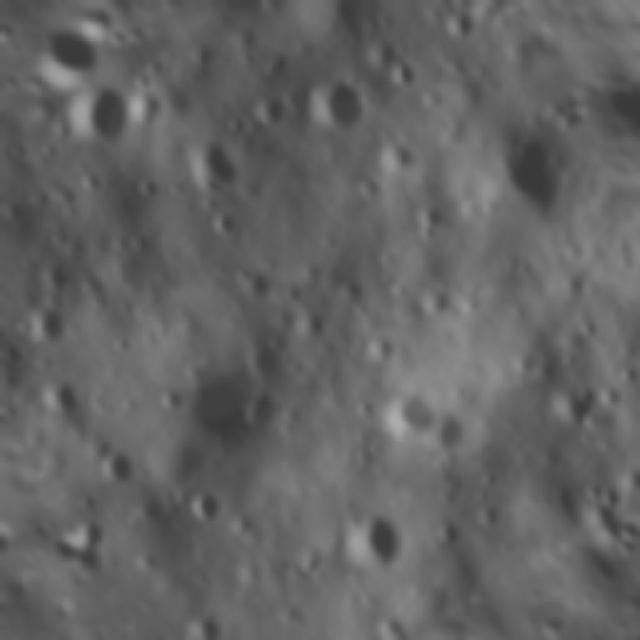crater: (287, 66, 385, 160), (331, 502, 414, 586), (171, 129, 251, 214), (67, 78, 147, 158), (171, 484, 235, 544), (386, 387, 445, 445), (172, 595, 237, 640), (89, 446, 140, 496), (626, 354, 640, 404)
